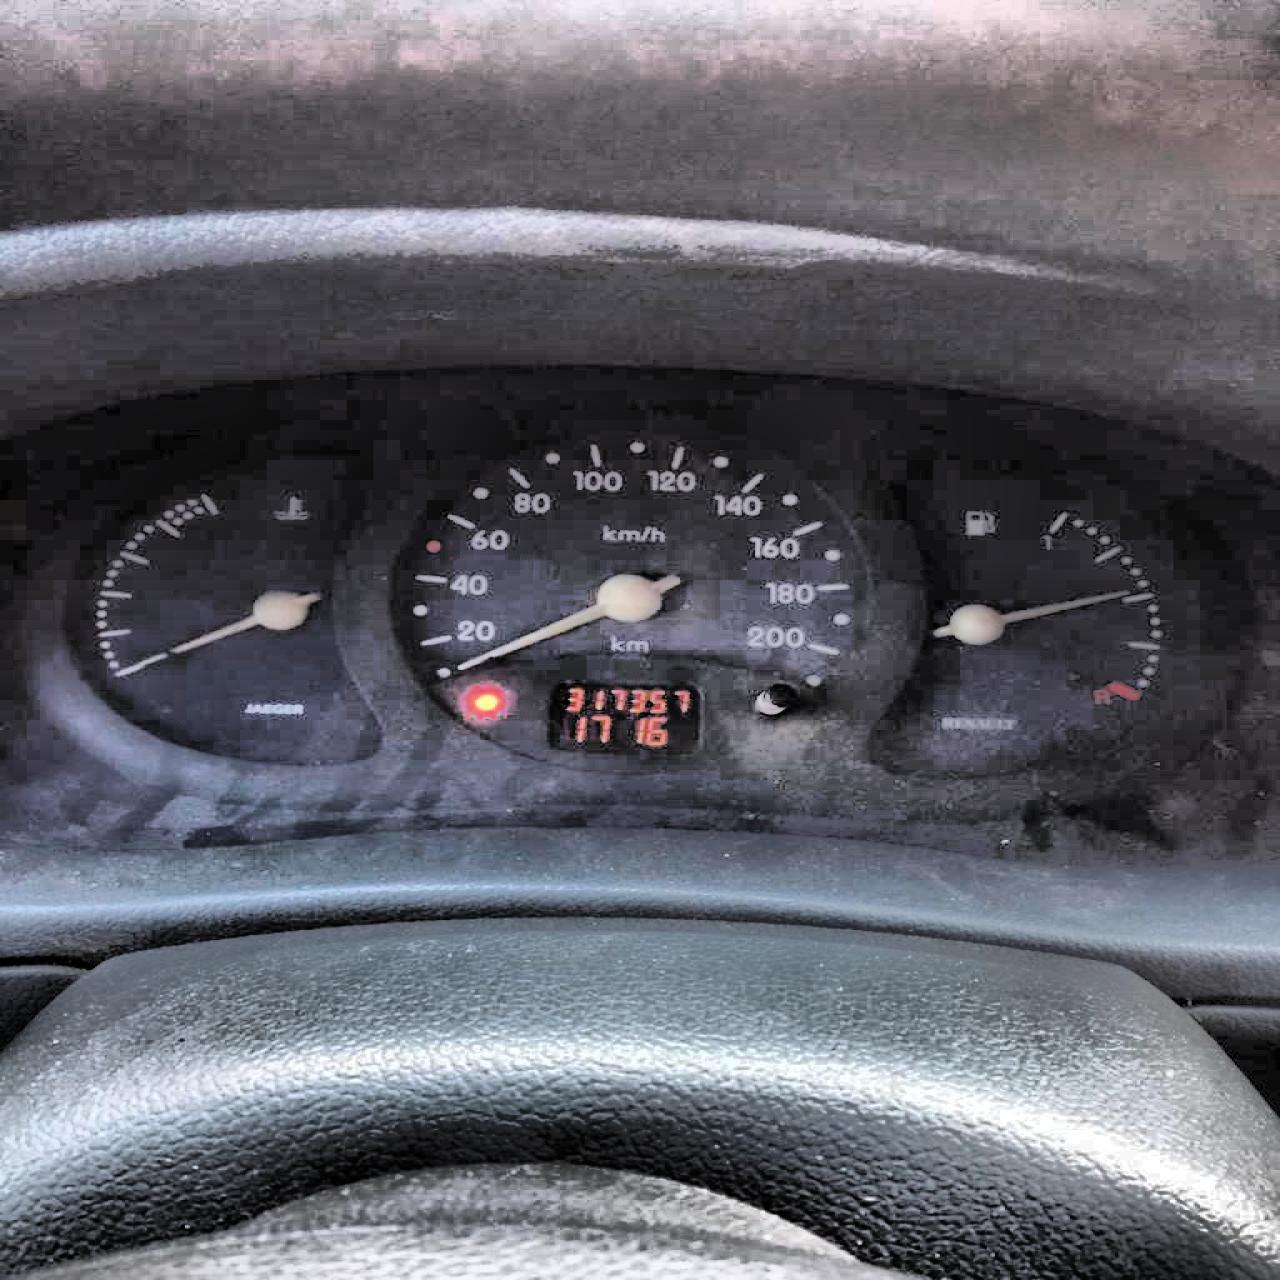1: (572, 715, 586, 743), (632, 716, 645, 744), (590, 689, 605, 710)
3: (625, 688, 645, 713), (564, 687, 581, 712)
5: (647, 688, 667, 713)
7: (588, 714, 612, 742), (672, 688, 688, 713), (608, 688, 625, 710)
odometer: (538, 675, 710, 761)
